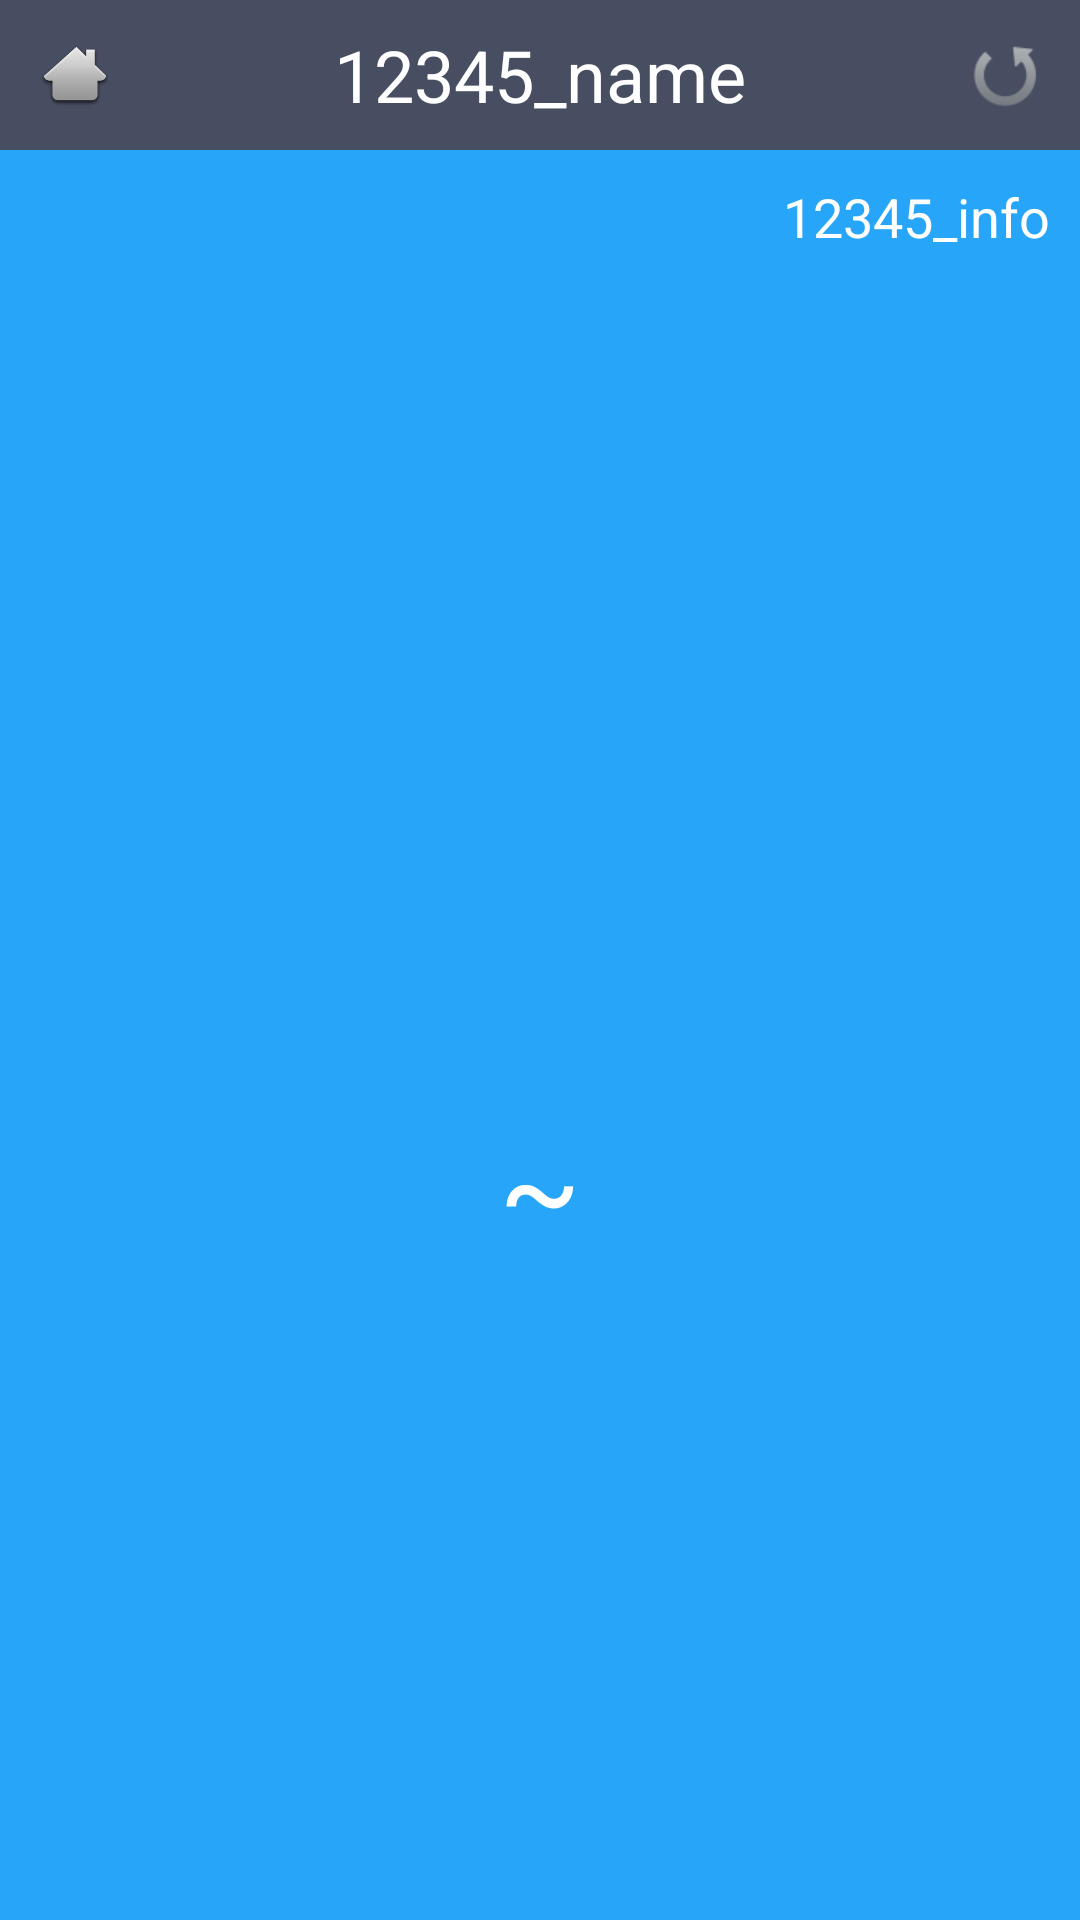

Named icons in this screenshot (1080px×1920px) and their centers, point (x, y):
home: point (75, 75)
refresh: point (1005, 76)
